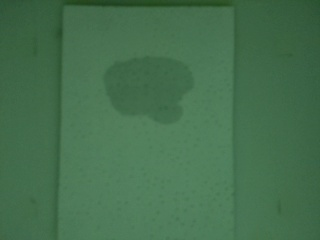Water_detected: (114, 62, 186, 110)
